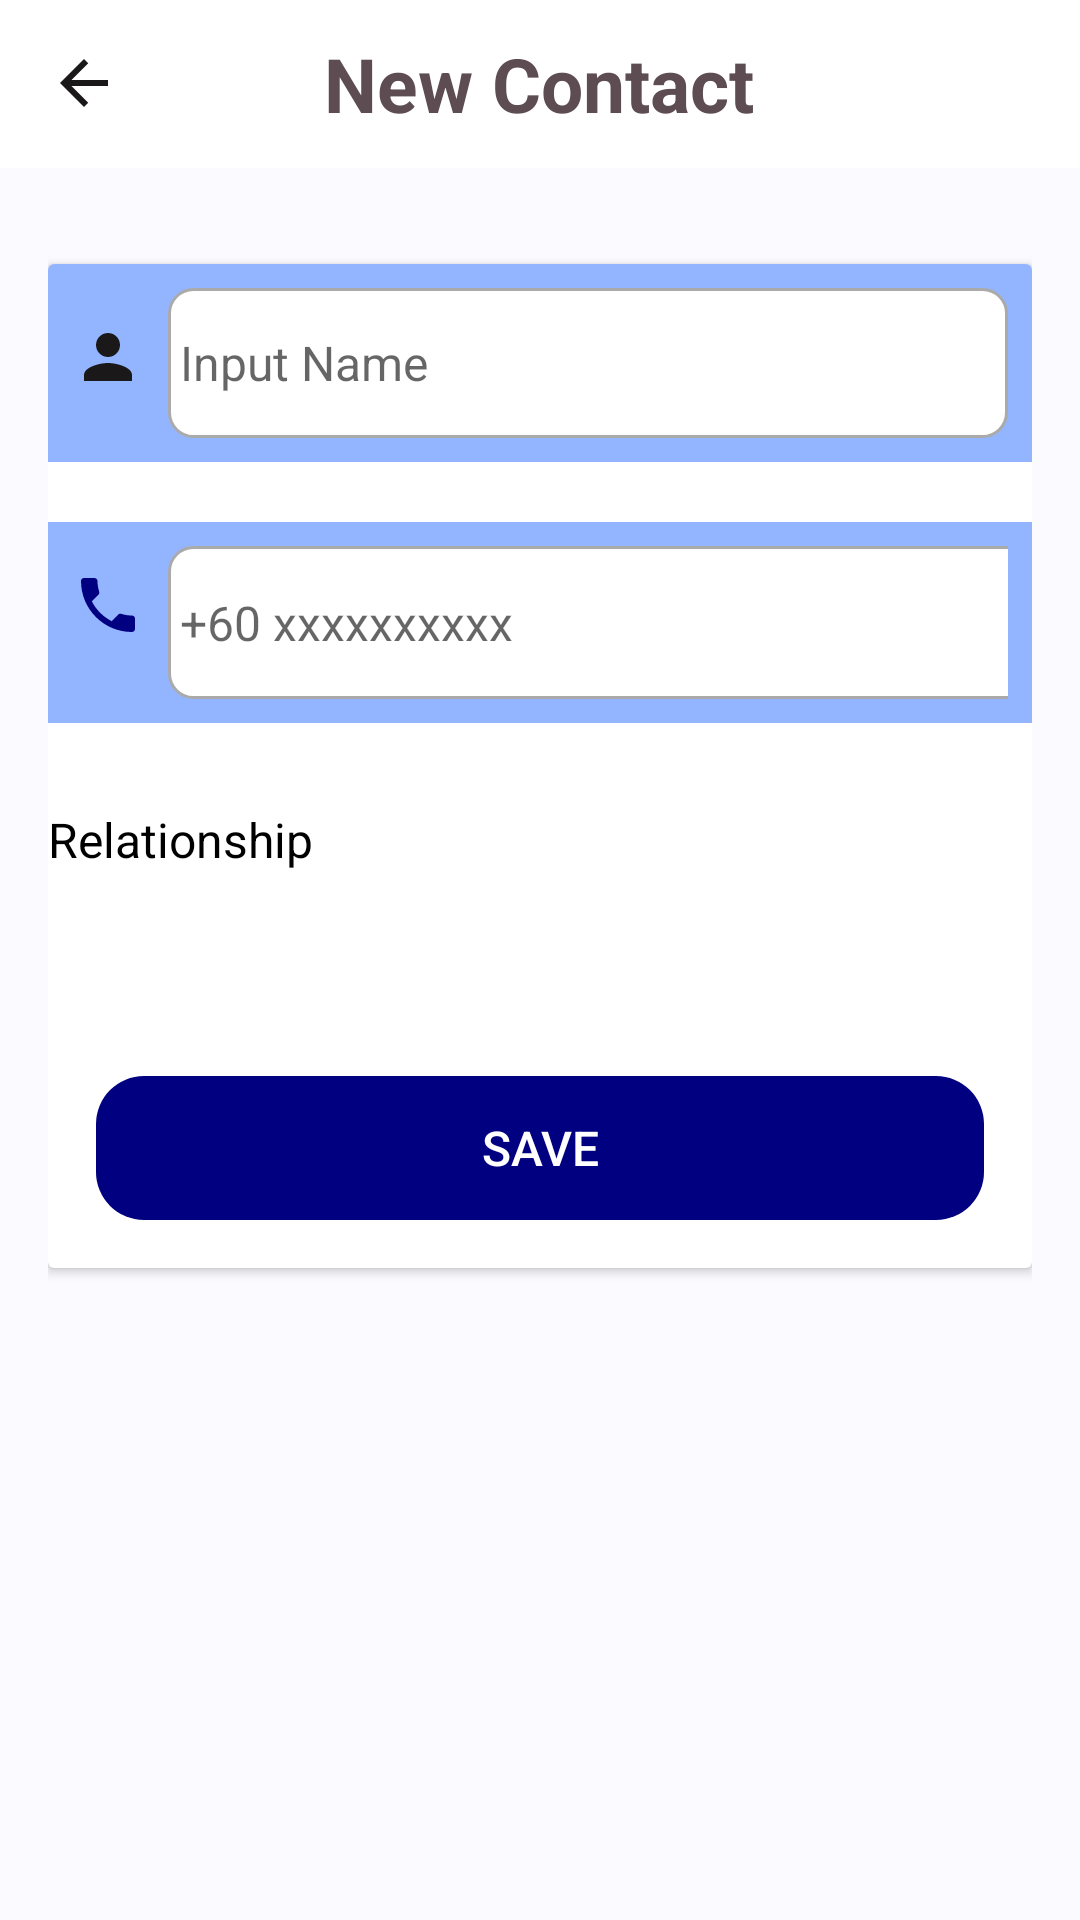

Icons on this 1080*1920 Android screen, each with its box as box=[x1, y1, x2, y2]:
Back: box=[60, 59, 108, 107]
person: box=[84, 333, 132, 381]
phone: box=[81, 578, 135, 632]
